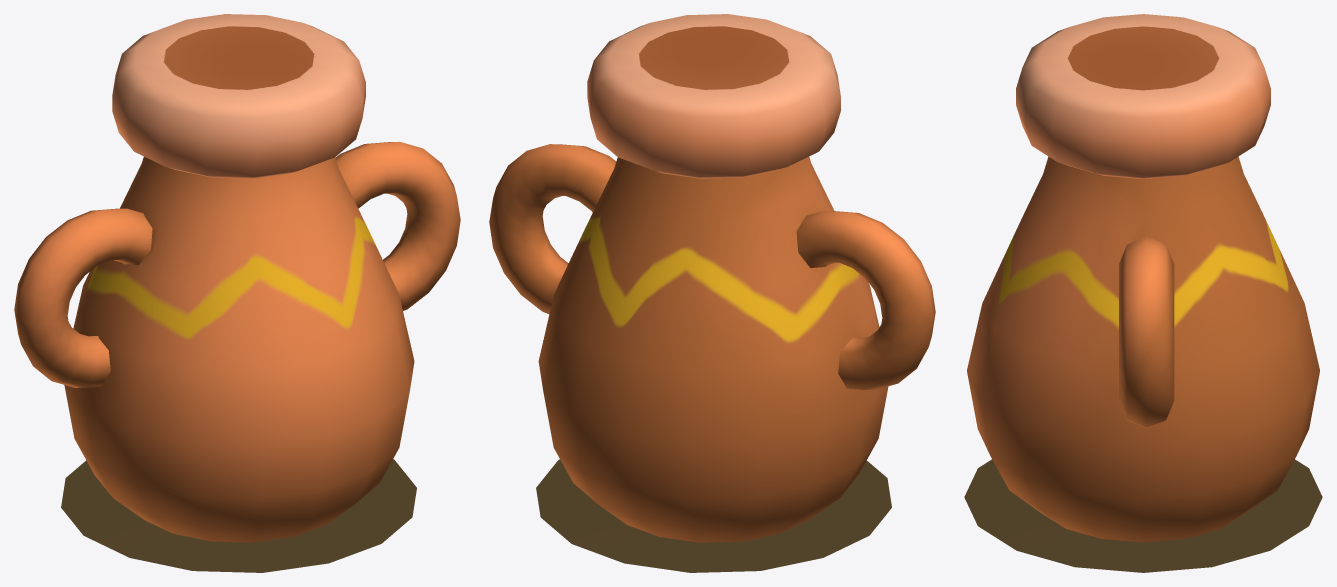
File: E_Pot01.fbx
The picture shows the model from 3 angles, left to right: view 1: azimuth 30°, elevation 25°; view 2: azimuth 150°, elevation 25°; view 3: azimuth 270°, elevation 25°; orthographic projection.
Visible parts, largest first — view 1: E_pot01, shadow1; view 2: E_pot01, shadow1; view 3: E_pot01, shadow1.
Boxes of the visible parts, box(x1,y1,x2,y2) form: E_pot01: box(14, 14, 460, 542); shadow1: box(61, 459, 416, 572); E_pot01: box(489, 14, 935, 542); shadow1: box(536, 459, 891, 572); E_pot01: box(967, 14, 1319, 542); shadow1: box(964, 459, 1322, 572).
Size of the model in its own units: 117 by 112 by 82.88.
